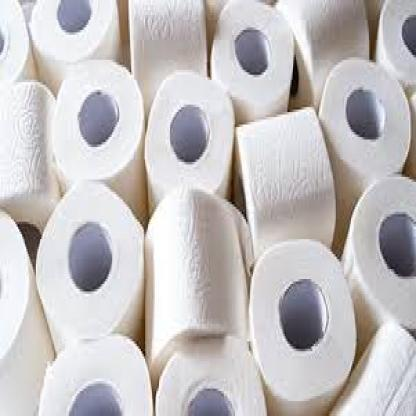tissue: (246, 245, 348, 407), (50, 61, 139, 178)
